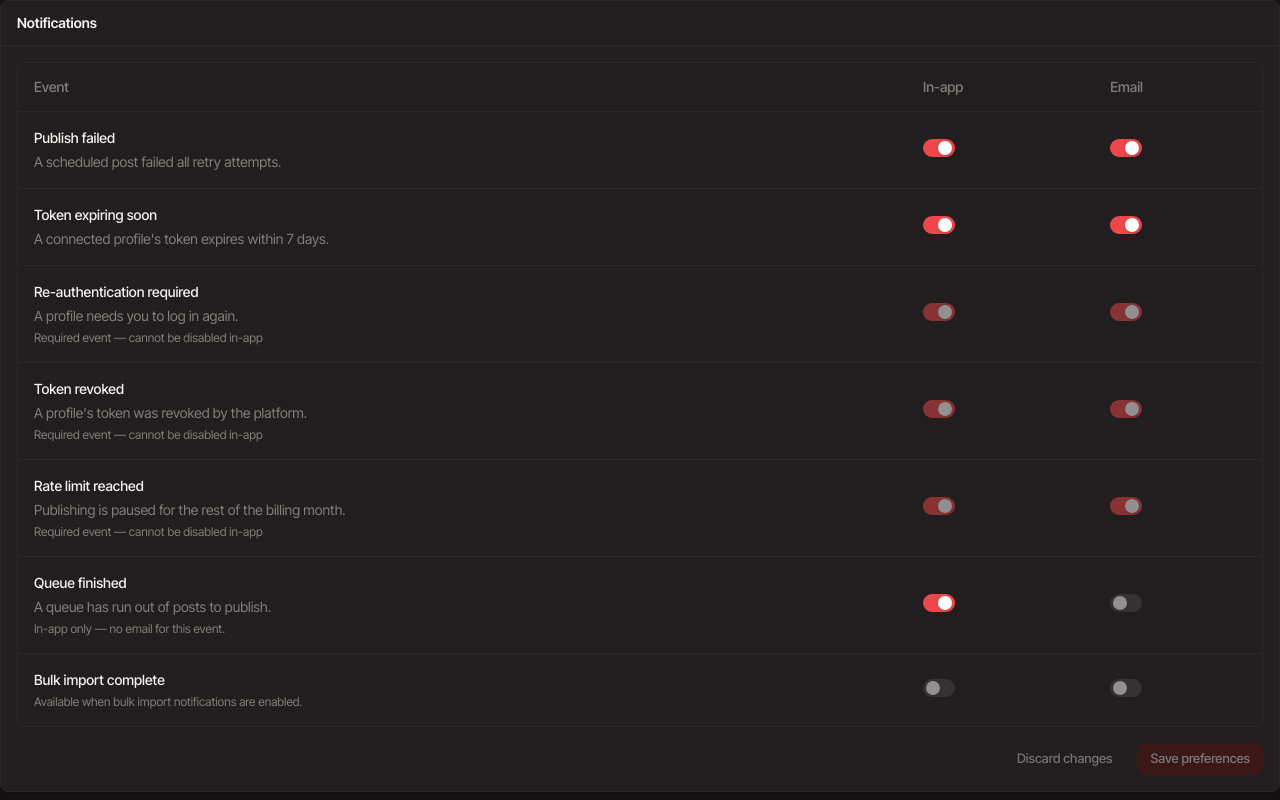
it: NotificationsTab › discards a changed toggle and returns the form to clean state
Expected: the button "Discard changes" is disabled, left=1004, top=742, right=1125, bottom=774
Expected: the button "Save preferences" is disabled, left=1138, top=742, right=1263, bottom=774
Click the switch named "Publish failed in-app notifications" at (939, 148), box left=923, top=139, right=955, bottom=157
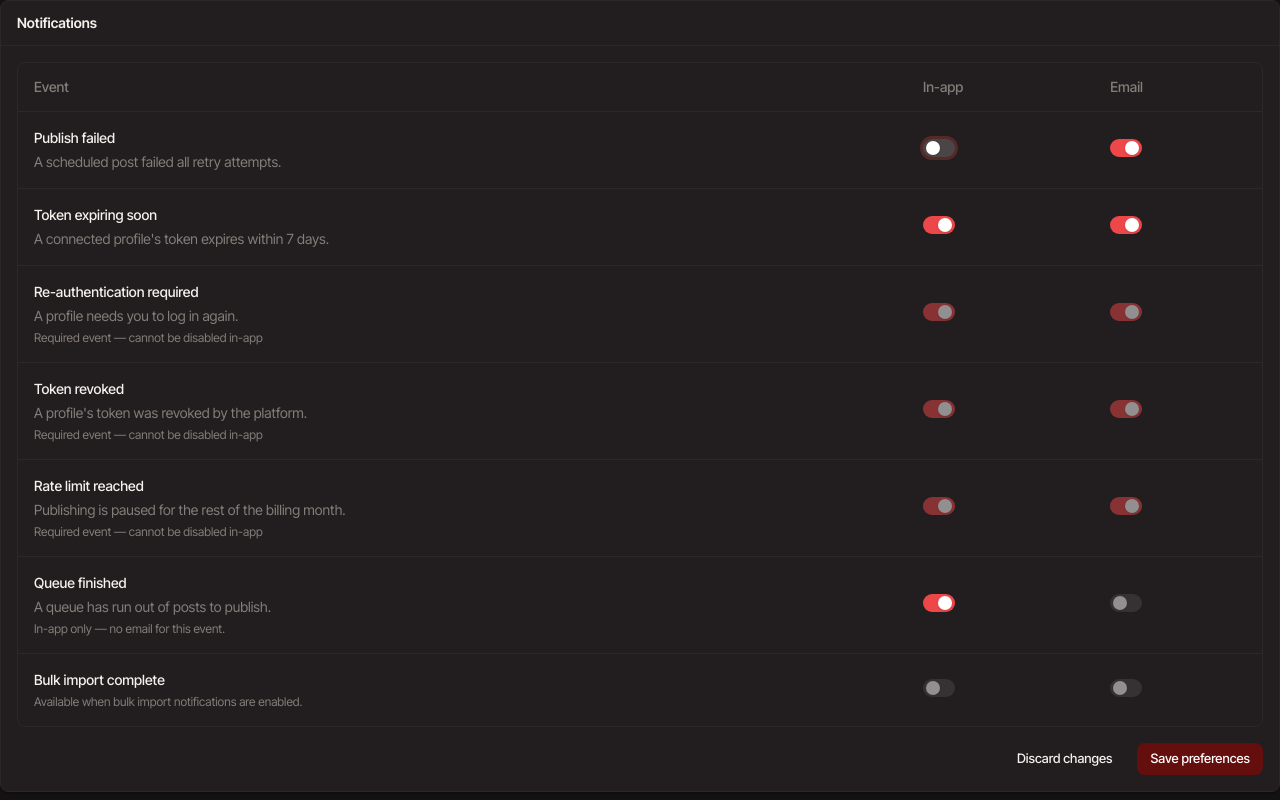
Expected: the switch named "Publish failed in-app notifications" is not checked, left=923, top=139, right=955, bottom=157
Expected: the button "Discard changes" is enabled
Expected: the button "Save preferences" is enabled, left=1138, top=742, right=1263, bottom=774
Click the button "Discard changes" at (1065, 758), box left=1004, top=742, right=1125, bottom=774
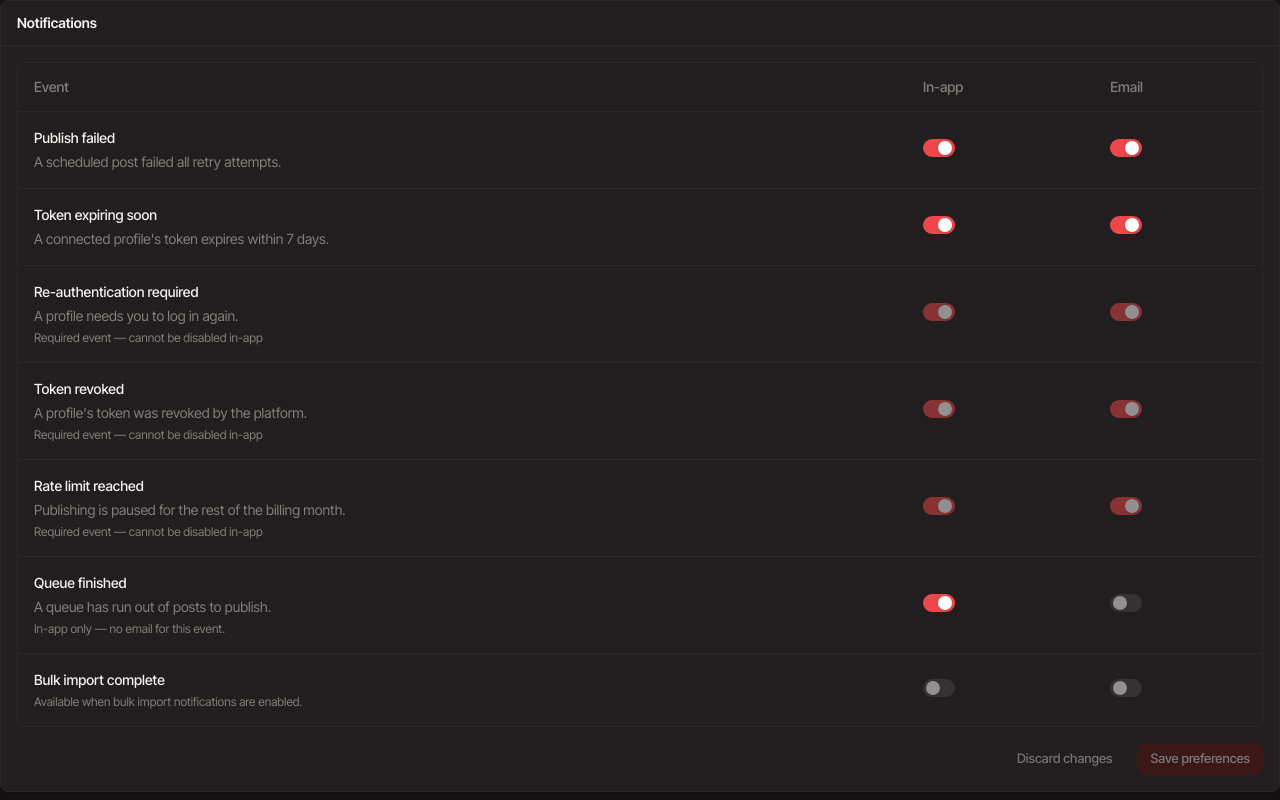
Expected: the switch named "Publish failed in-app notifications" is checked, left=923, top=139, right=955, bottom=157
Expected: the button "Discard changes" is disabled, left=1004, top=742, right=1125, bottom=774
Expected: the button "Save preferences" is disabled, left=1138, top=742, right=1263, bottom=774
